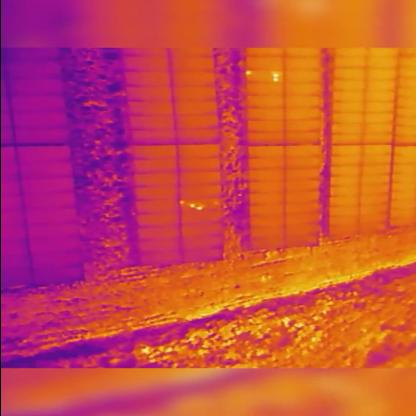panel: (179, 244, 225, 266), (131, 182, 181, 201), (177, 167, 222, 188), (176, 141, 223, 161), (132, 197, 181, 216), (128, 157, 179, 175), (134, 210, 182, 229), (126, 143, 179, 160), (136, 248, 181, 268), (130, 170, 180, 188), (176, 154, 222, 173), (177, 183, 224, 201), (178, 196, 224, 214), (133, 225, 182, 241), (179, 222, 225, 239), (179, 210, 225, 226), (178, 233, 225, 248), (135, 237, 182, 252)
